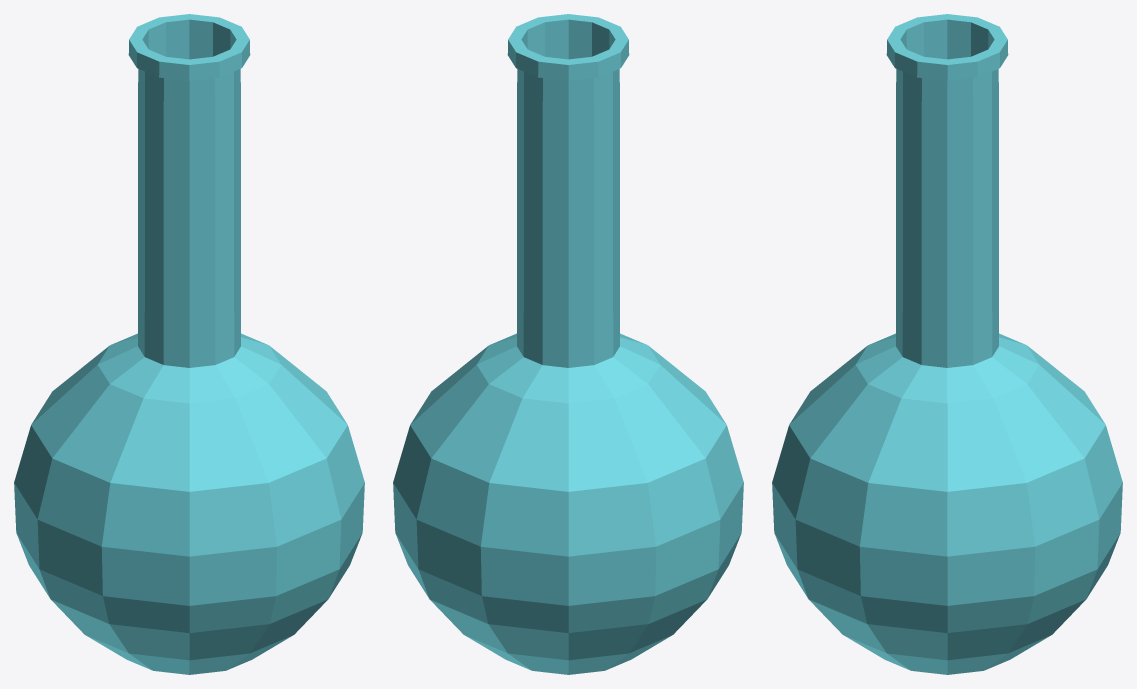
The model's file is SM_Flask_02_B.gltf.
The picture shows the model from 3 angles, left to right: view 1: azimuth 30°, elevation 25°; view 2: azimuth 150°, elevation 25°; view 3: azimuth 270°, elevation 25°; orthographic projection.
Parts seen in each view (by area): view 1: SM_Flask_02_B; view 2: SM_Flask_02_B; view 3: SM_Flask_02_B.
Boxes of the visible parts, bbox=[...] form: SM_Flask_02_B: bbox=[14, 14, 364, 674]; SM_Flask_02_B: bbox=[393, 14, 743, 674]; SM_Flask_02_B: bbox=[772, 14, 1122, 674].
Size of the model in its own units: 0.1305 by 0.2509 by 0.1305.
